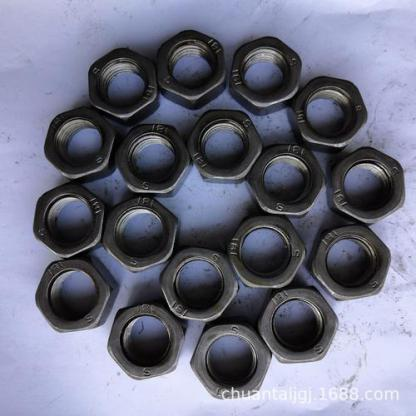FOD: (104, 300, 186, 384), (155, 243, 240, 323), (308, 224, 394, 302), (224, 209, 306, 290), (40, 103, 121, 184), (257, 286, 340, 365), (32, 256, 116, 334), (190, 322, 274, 400), (327, 143, 408, 223), (227, 31, 303, 115), (110, 122, 193, 197), (293, 71, 369, 151), (185, 104, 260, 185), (244, 144, 328, 216), (31, 182, 107, 261), (156, 26, 229, 107), (102, 194, 178, 271), (86, 45, 158, 125)
